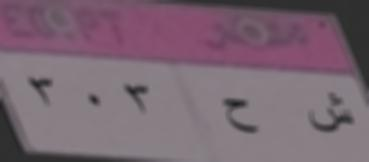0: (73, 86, 110, 115)
3: (118, 77, 158, 116), (20, 74, 60, 110)
7aa: (216, 91, 264, 140)
sheen: (303, 87, 361, 144)
